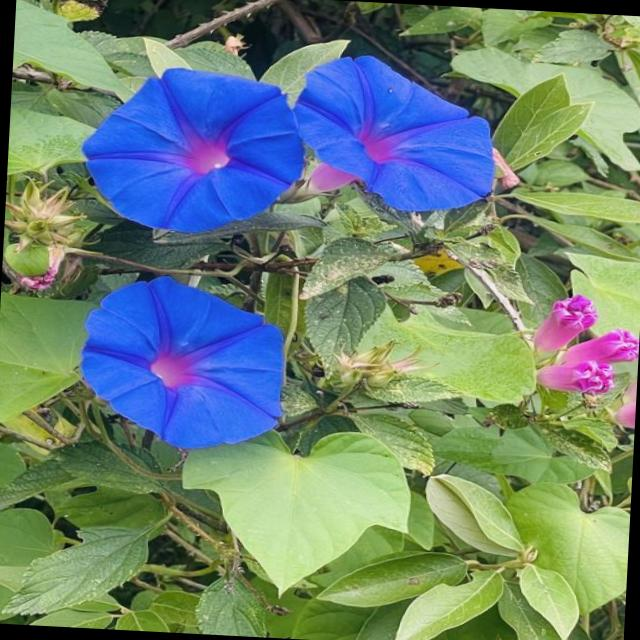ipomoea: (74, 60, 312, 242), (71, 270, 294, 457), (285, 49, 506, 220)
